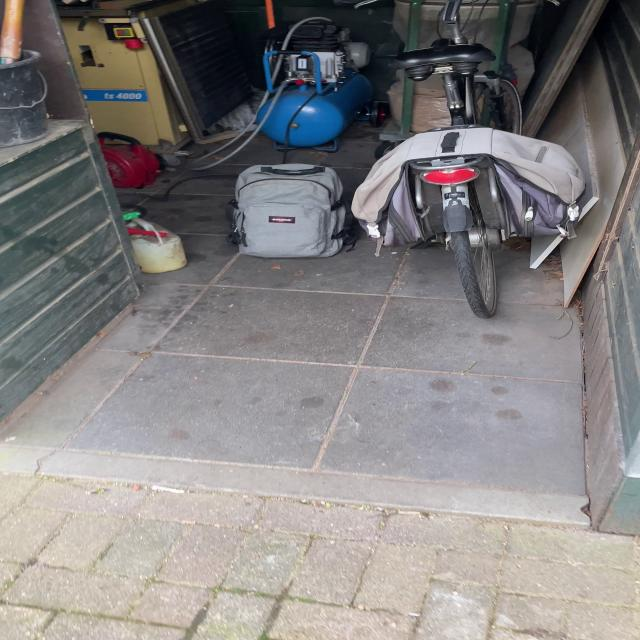backpack: (220, 160, 369, 262)
